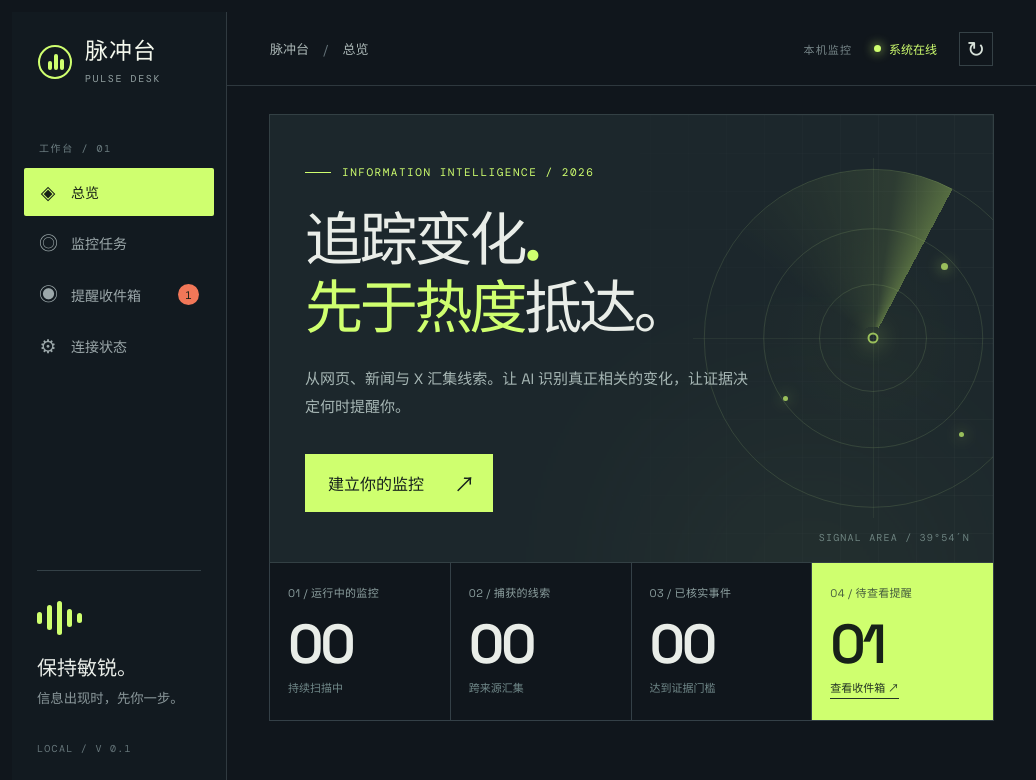
Test: 提醒收件箱可以标记已读
Expected: the heading "追踪变化" is shown, x1=305 y1=207 x2=755 y2=343
Click the button "◉ 提醒收件箱 1".
click(119, 294)  # box x1=24 y1=270 x2=214 y2=319
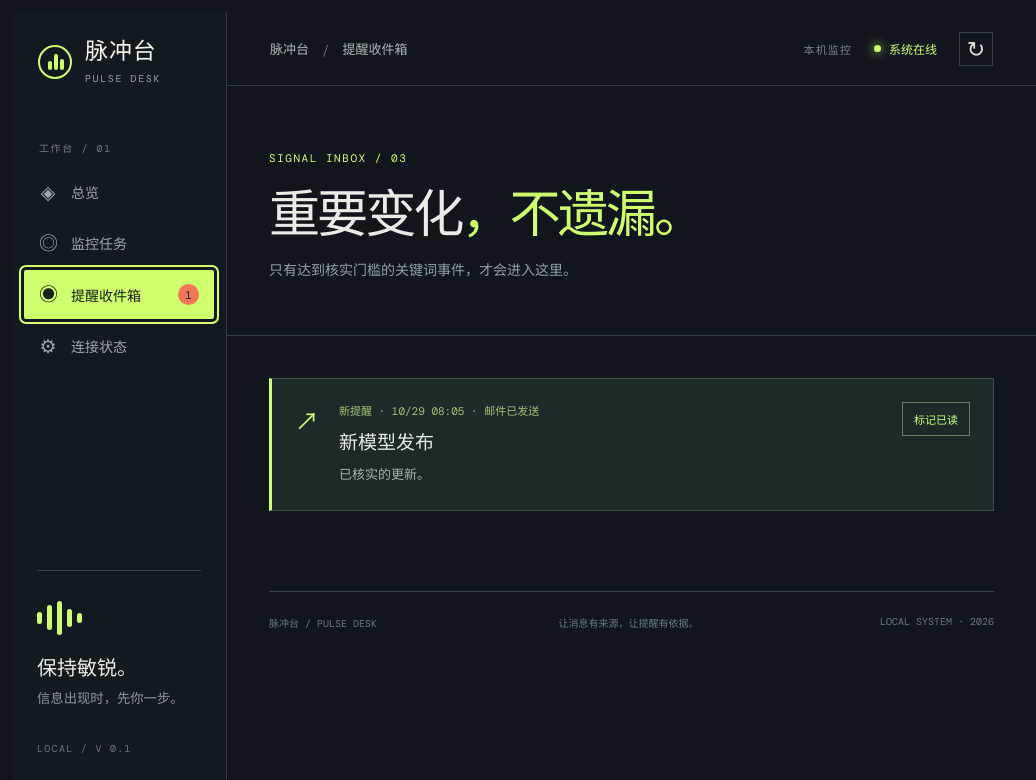
Click the button "标记已读".
click(936, 419)  # box x1=902 y1=402 x2=970 y2=436
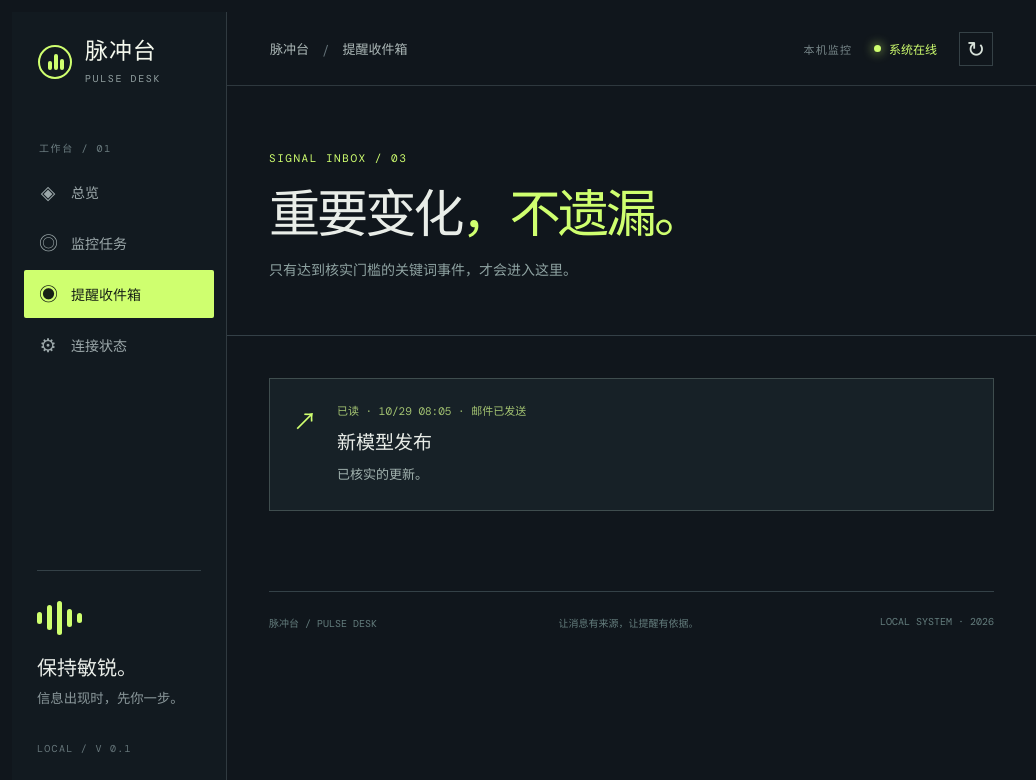
Expected: the text "已读 ·" is shown, x1=337 y1=404 x2=526 y2=418
